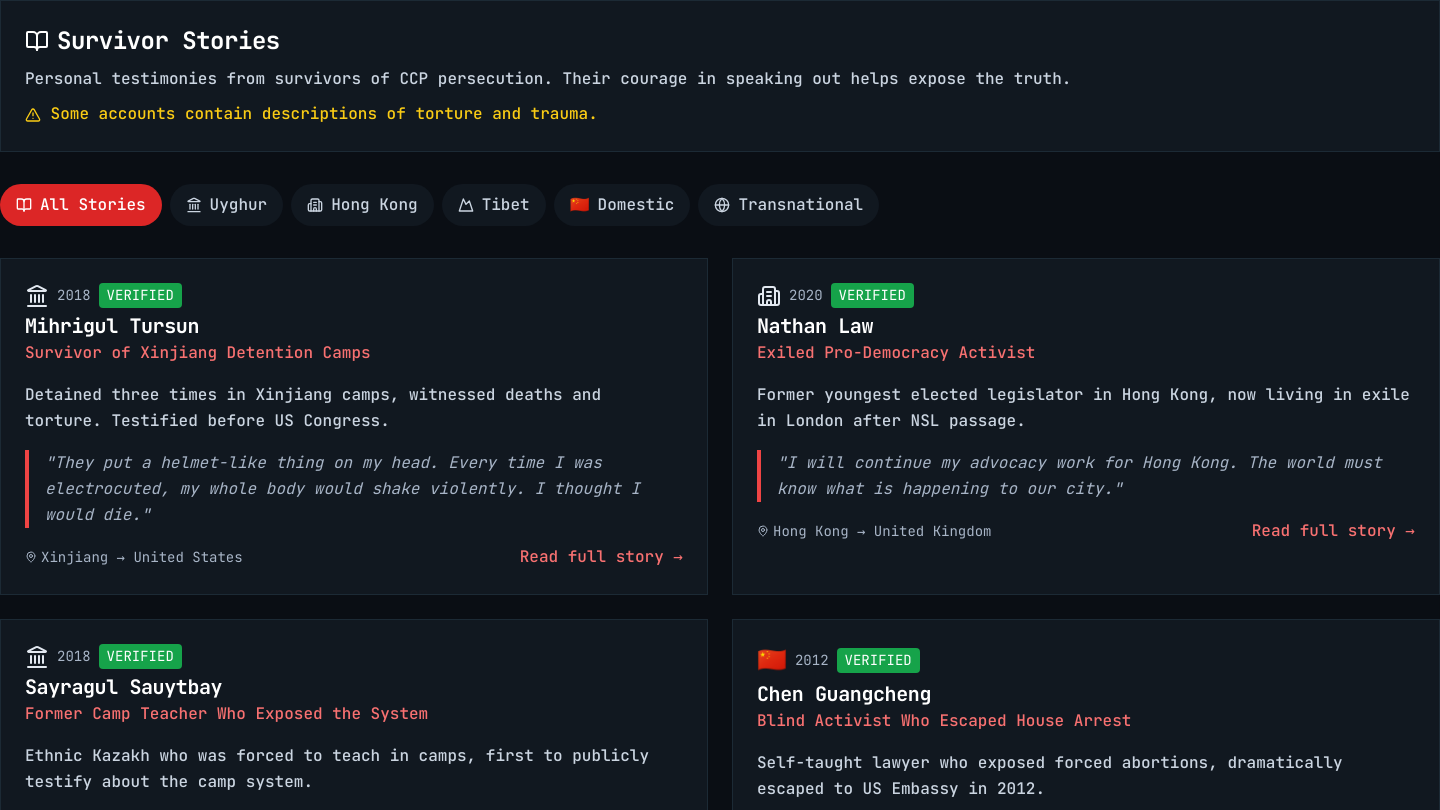
Test case: VictimStories › filters stories by Hong Kong category
This screenshot has width=1440, height=810.
Click the button "Hong Kong": (362, 205) [291, 184, 434, 226]
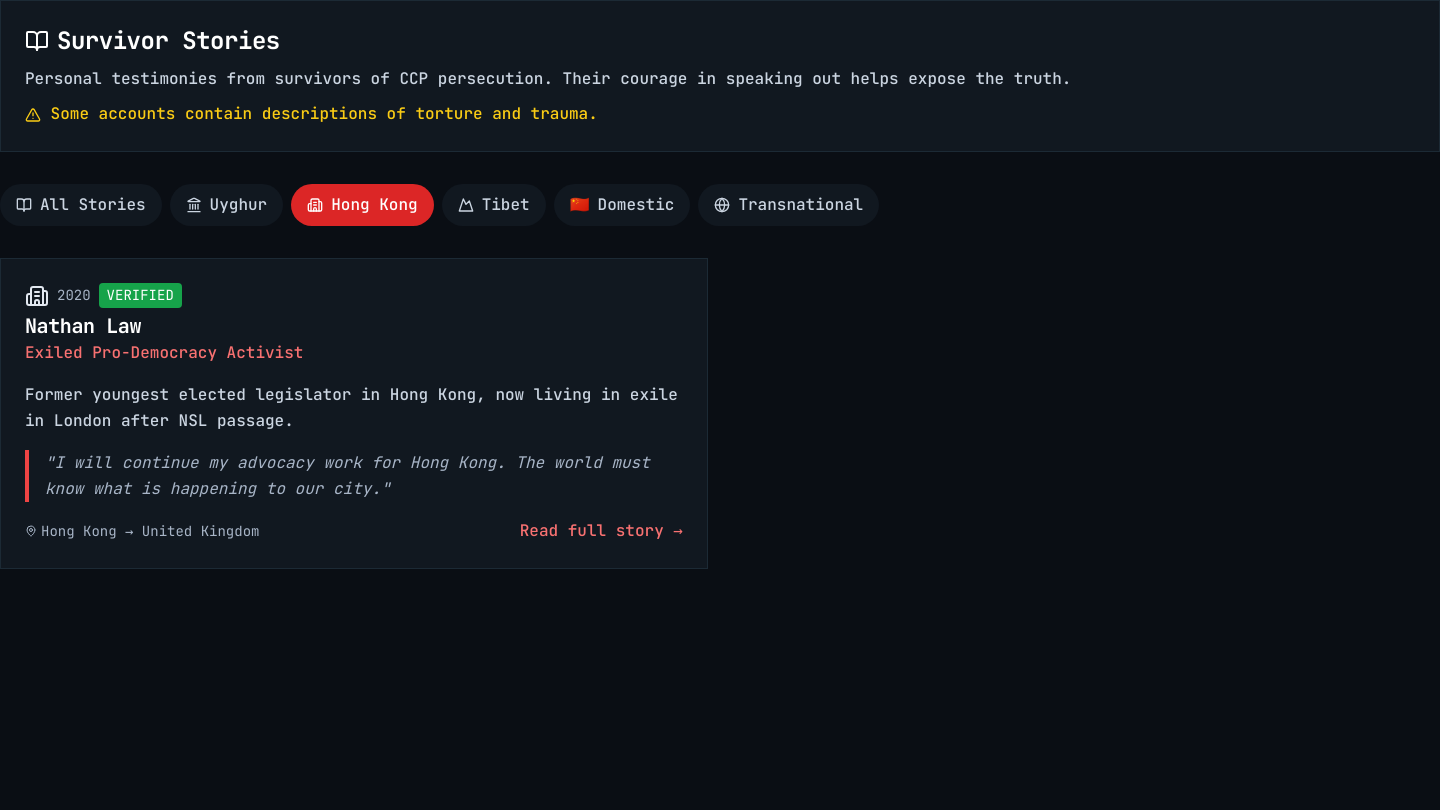
Expected: the heading "Nathan Law" is shown, [25, 313, 141, 339]
Now the heading "Mihrigul Tursun" is gone
